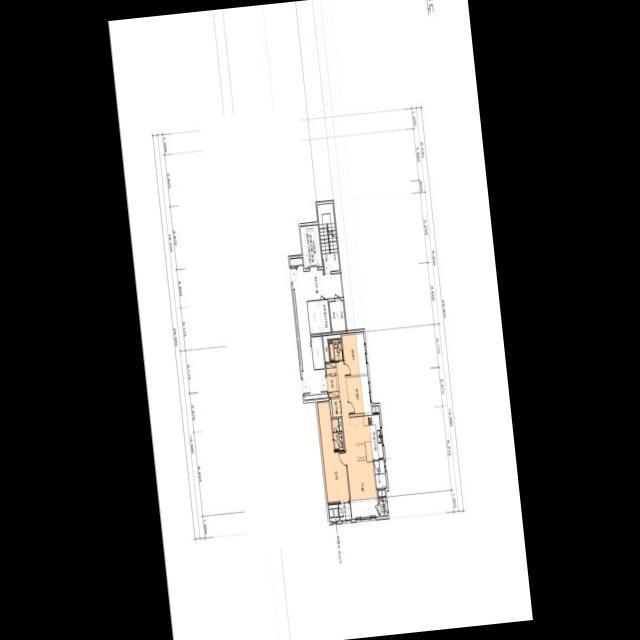background: (108, 0, 532, 640)
space_balconi: (373, 459, 386, 488), (338, 503, 351, 520)
space_bedroom: (317, 401, 349, 503), (341, 332, 367, 376), (345, 375, 371, 415)
space_elevator: (300, 224, 321, 268)
space_elevator_hall: (290, 265, 342, 395)
space_front: (325, 362, 339, 397)
space_kitchen: (349, 414, 383, 460)
space_living_room: (336, 361, 378, 519)
space_other: (307, 299, 330, 334), (293, 290, 302, 370), (328, 300, 345, 332), (322, 334, 340, 361), (310, 336, 324, 369), (327, 504, 339, 521), (331, 398, 341, 417), (304, 393, 327, 400), (289, 257, 302, 266), (377, 489, 385, 496), (329, 399, 332, 417), (371, 406, 378, 412), (338, 418, 341, 430)
space_outdoor_room: (378, 497, 387, 516)
space_staircase: (317, 203, 339, 271)
space_toilet: (331, 418, 343, 450), (328, 339, 343, 361)
